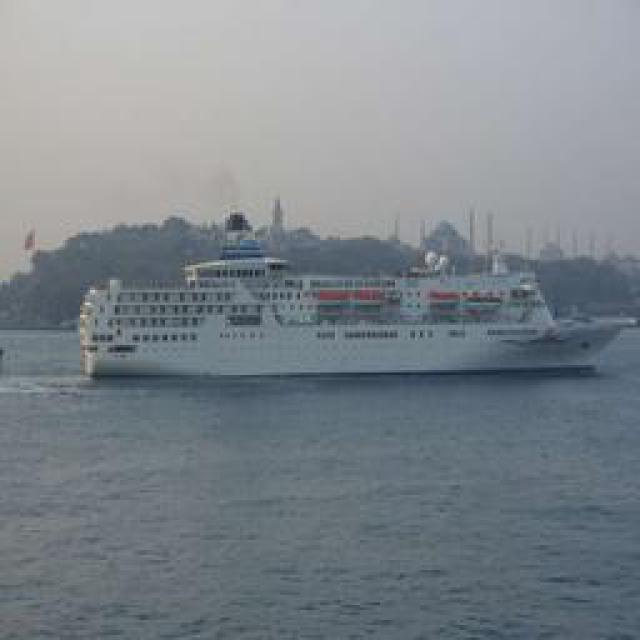Ship: (82, 223, 600, 381)
